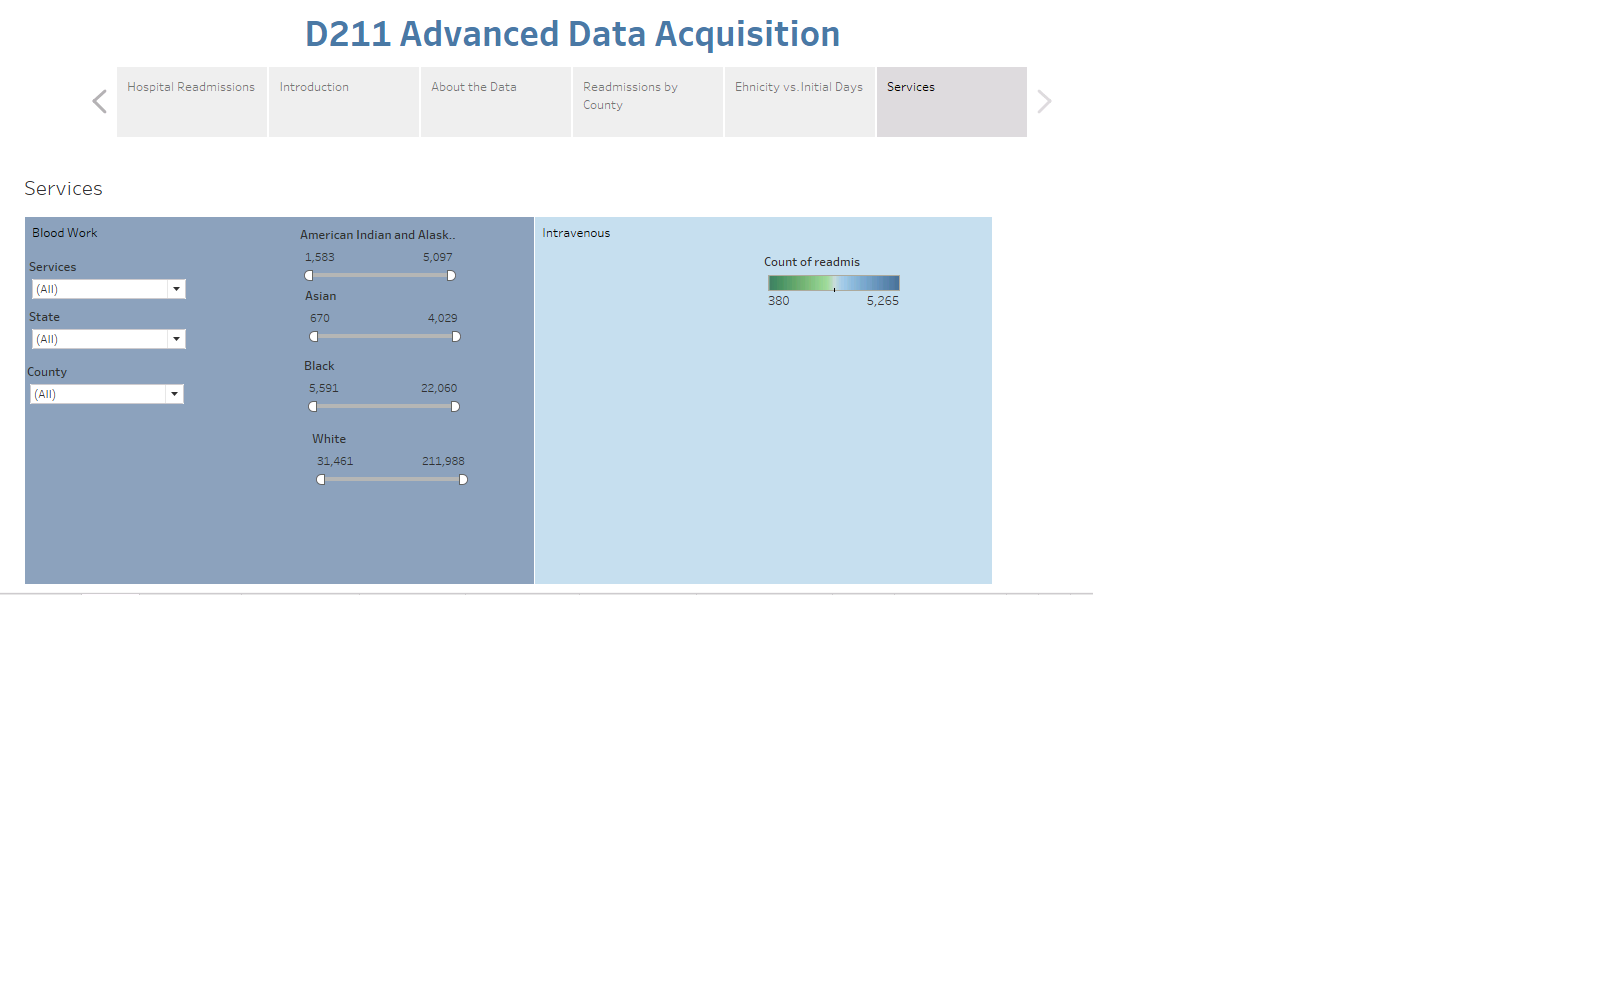

This screenshot's page, from the dashboard's own definition file:
{"tool":"tableau","page":{"name":"Services Dash","canvas":[1000,800],"ordinal":5},"visuals":[{"type":"worksheet","title":"Services","mark":"Automatic","box":[8,8,984,784]},{"type":"filter","title":"Services","param":"[federated.0q0yj6c0et75j51h8g4230bizh3w].[sum:Ethnicities.American Indian and Al","box":[292,69,160,61]},{"type":"legend","title":"Services","param":"[federated.0q0yj6c0et75j51h8g4230bizh3w].[cnt:readmis:qk]","box":[756,96,140,76]},{"type":"filter","title":"Services","param":"[federated.0q0yj6c0et75j51h8g4230bizh3w].[none:services:nk]","box":[21,101,160,44]},{"type":"filter","title":"Services","param":"[federated.0q0yj6c0et75j51h8g4230bizh3w].[sum:Ethnicities.Asian Alone:qk]","box":[297,130,160,61]},{"type":"filter","title":"Services","param":"[federated.0q0yj6c0et75j51h8g4230bizh3w].[none:state:nk]","box":[21,151,160,44]},{"type":"filter","title":"Services","param":"[federated.0q0yj6c0et75j51h8g4230bizh3w].[sum:Ethnicities.Black Alone:qk]","box":[296,200,160,61]},{"type":"filter","title":"Services","param":"[federated.0q0yj6c0et75j51h8g4230bizh3w].[none:county:nk]","box":[19,206,160,44]},{"type":"filter","title":"Services","param":"[federated.0q0yj6c0et75j51h8g4230bizh3w].[sum:Ethnicities.White Alone:qk]","box":[304,273,160,61]}]}

Visuals, with their boxes on the page's 1000x800 design canvas (x1, y1, x2, y2). These are canvas units, not pixel positions in the 1612x982 screenshot, which may show the page scaled, cropped or inside an application window:
"Services" worksheet: {"left": 8, "top": 8, "right": 992, "bottom": 792}
"Services" filter: {"left": 292, "top": 69, "right": 452, "bottom": 130}
"Services" legend: {"left": 756, "top": 96, "right": 896, "bottom": 172}
"Services" filter: {"left": 21, "top": 101, "right": 181, "bottom": 145}
"Services" filter: {"left": 297, "top": 130, "right": 457, "bottom": 191}
"Services" filter: {"left": 21, "top": 151, "right": 181, "bottom": 195}
"Services" filter: {"left": 296, "top": 200, "right": 456, "bottom": 261}
"Services" filter: {"left": 19, "top": 206, "right": 179, "bottom": 250}
"Services" filter: {"left": 304, "top": 273, "right": 464, "bottom": 334}
